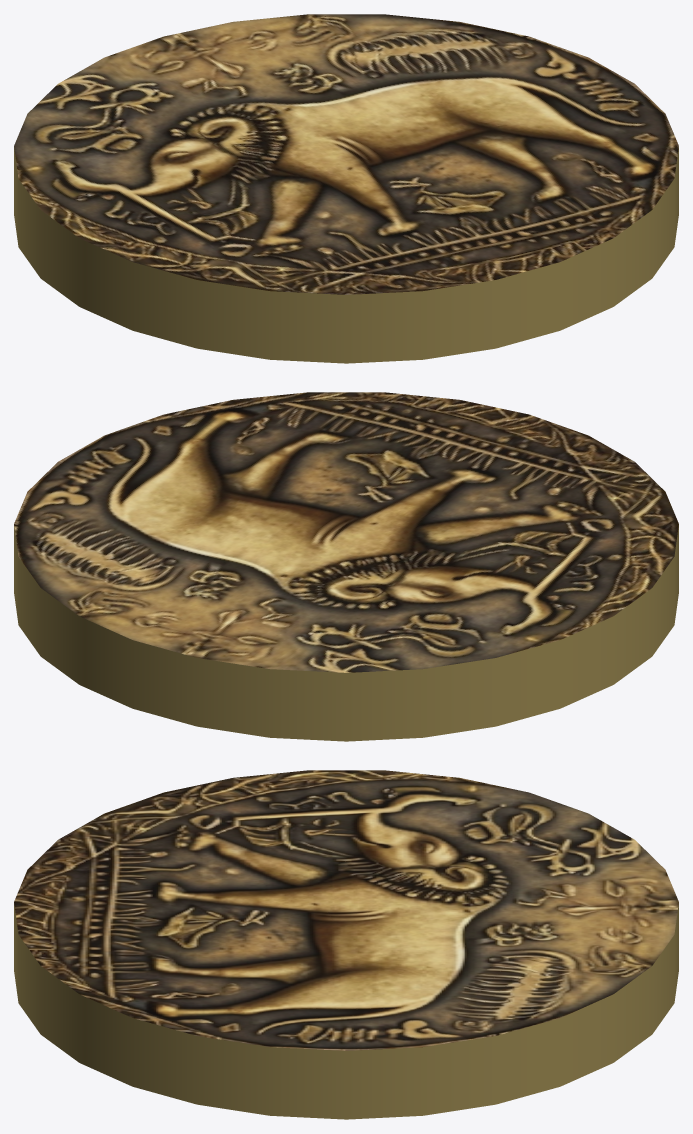
File: Coin 4.fbx
The picture shows the model from 3 angles, top to bottom: view 1: azimuth 30°, elevation 25°; view 2: azimuth 150°, elevation 25°; view 3: azimuth 270°, elevation 25°; orthographic projection.
Parts seen in each view (by area): view 1: polySurface20; view 2: polySurface20; view 3: polySurface20.
Part boxes in pixels (<box>): polySurface20: <box>14,14,678,363</box>; polySurface20: <box>14,392,678,741</box>; polySurface20: <box>14,770,678,1119</box>.
Size of the model in its own units: 7.82 by 0.8921 by 7.83.
